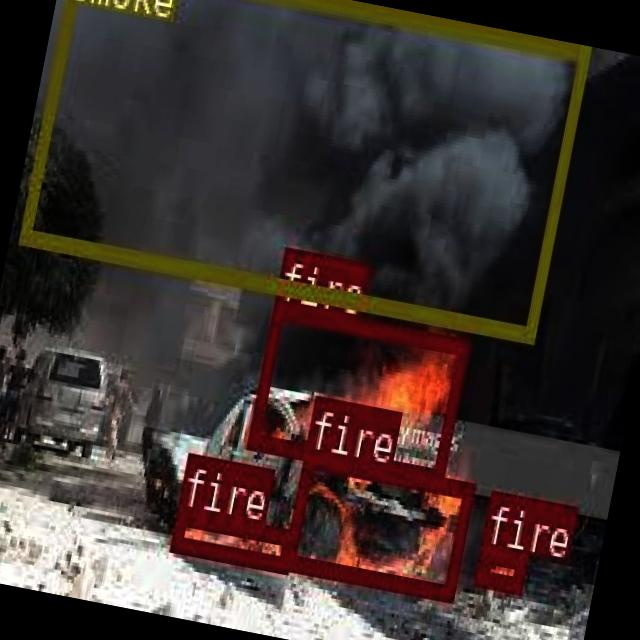fire: (246, 301, 469, 484), (282, 449, 473, 598), (169, 506, 294, 570), (471, 544, 526, 590)
smoke: (17, 0, 590, 338)
